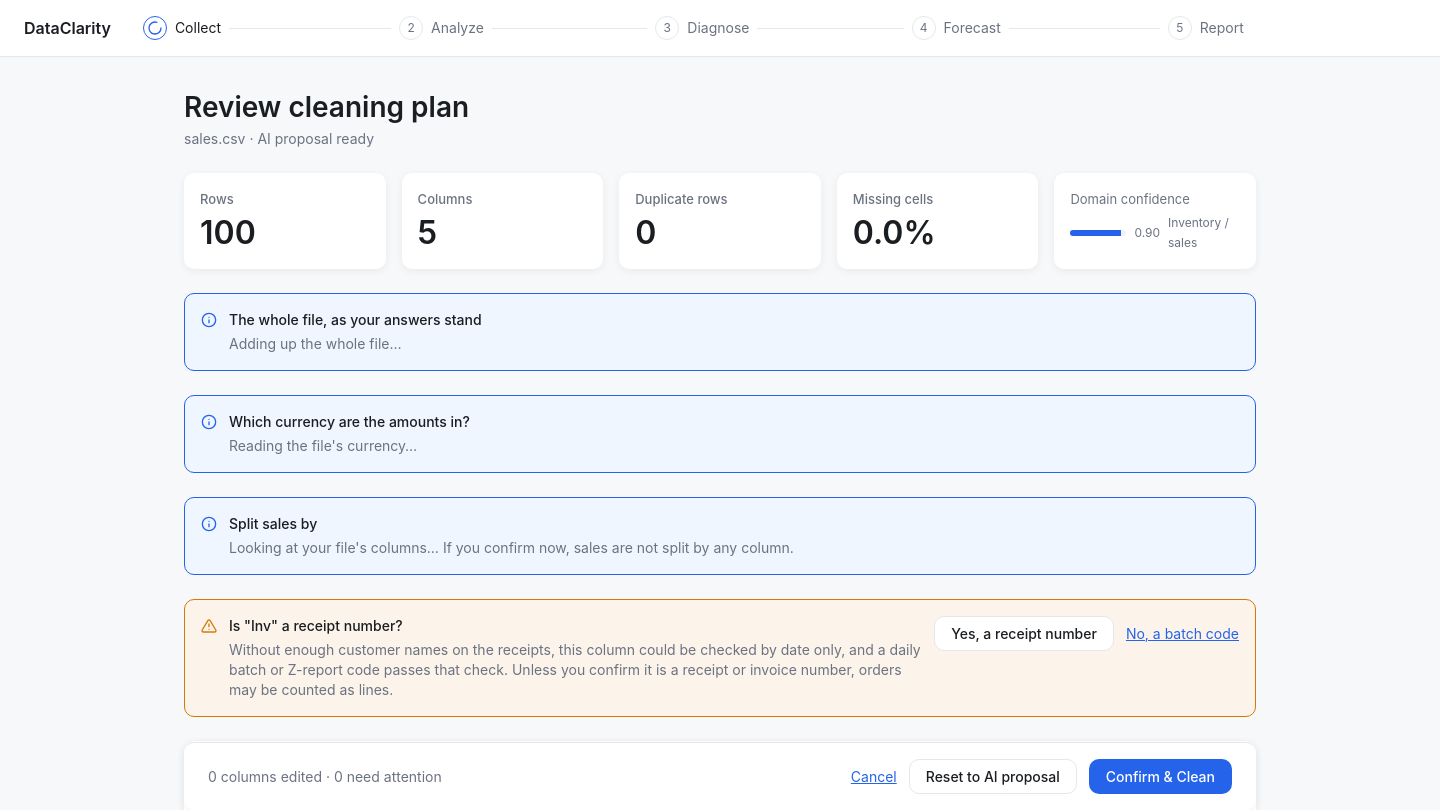
ReviewPage: the receipt question › does not promise orders by id when stage 1 found its ids spanning days (cycle 3 F4)
Click the button "Yes, a receipt number" at (1024,634), box [934,616,1114,651]
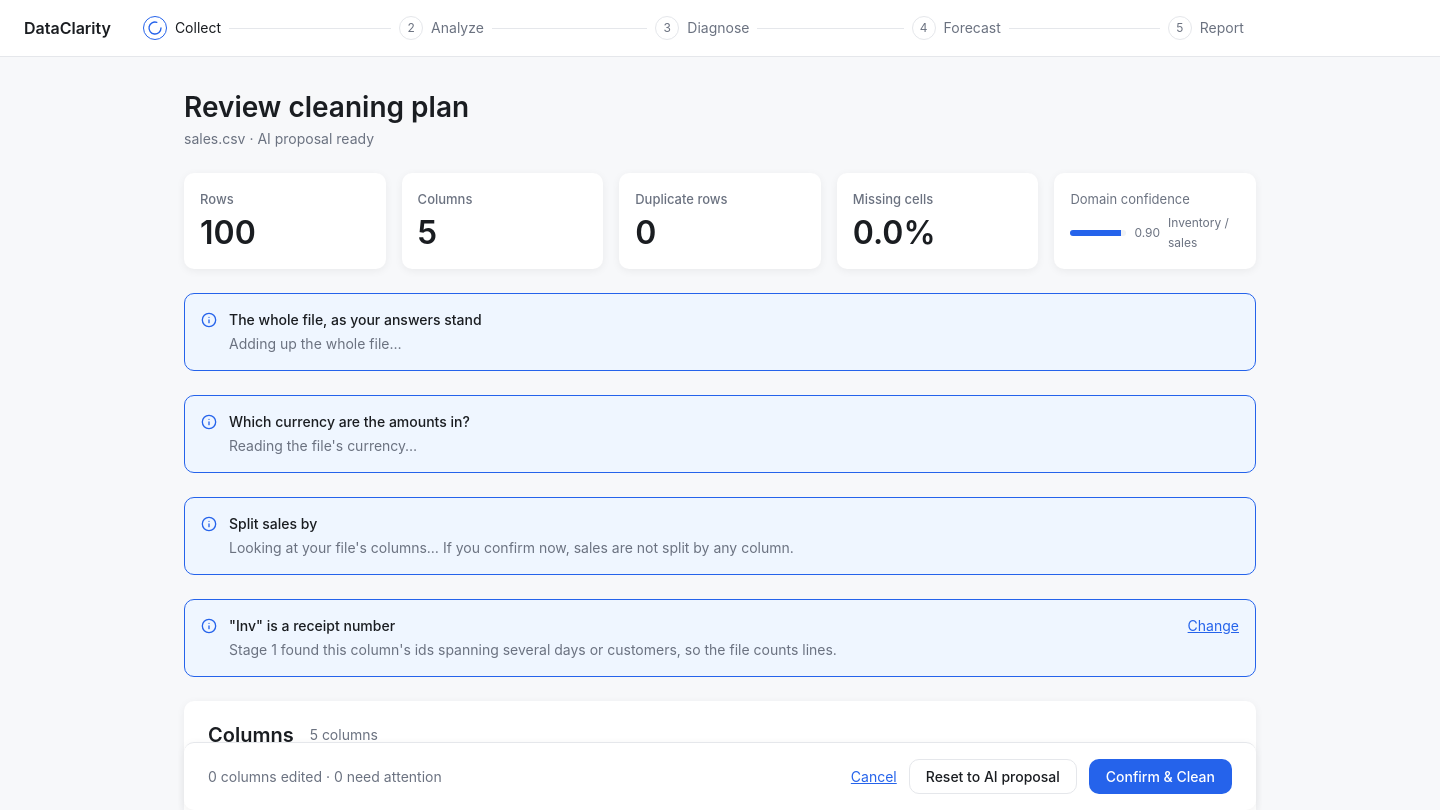
Expected: the text "ids spanning several days or customers" is shown, [229,641,837,658]
